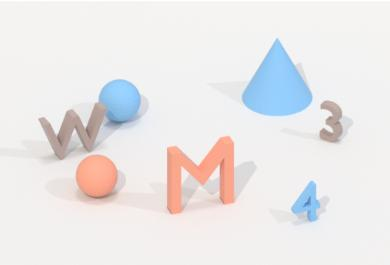0-TamGiac: (237, 36, 315, 119)
0-Tron: (95, 77, 144, 126), (74, 153, 121, 202)
3: (315, 96, 347, 147)
4: (285, 177, 327, 227)
M: (162, 134, 238, 218)
W: (33, 101, 106, 159)
